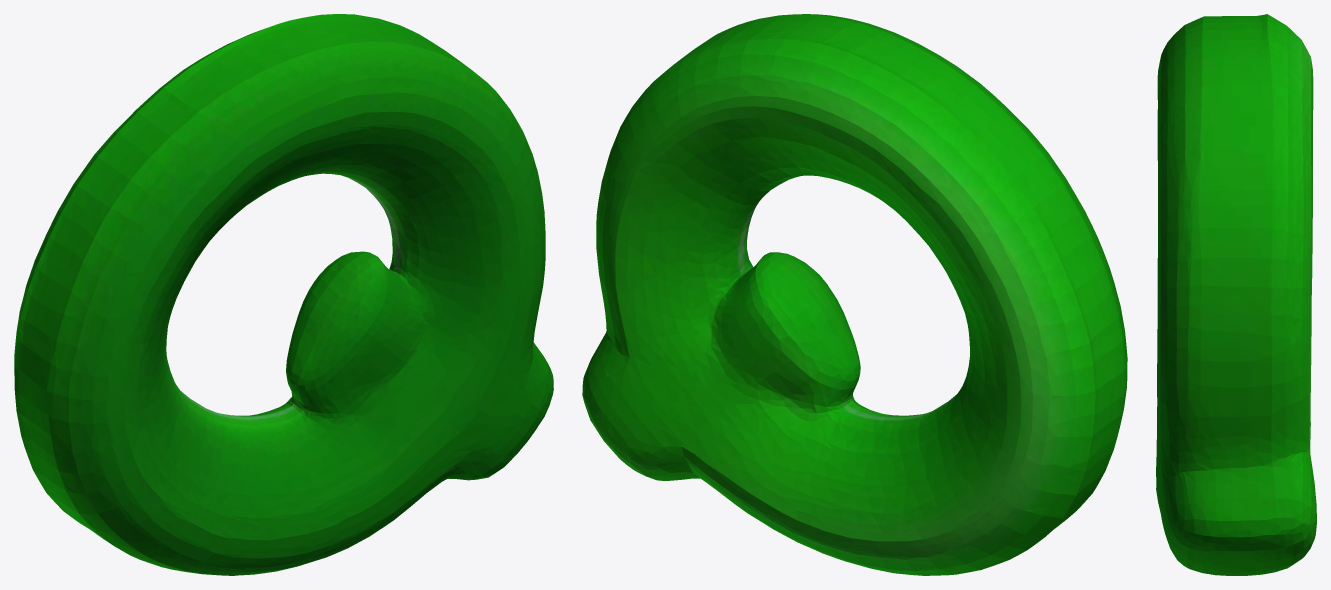
The picture shows the model from 3 angles, left to right: view 1: azimuth 30°, elevation 25°; view 2: azimuth 150°, elevation 25°; view 3: azimuth 270°, elevation 25°; orthographic projection. The views are drawn at different scales.
Parts seen in each view (by area): view 1: geometry_0; view 2: geometry_0; view 3: geometry_0.
Boxes of the visible parts, bbox=[...] form: geometry_0: bbox=[14, 14, 553, 575]; geometry_0: bbox=[582, 14, 1127, 575]; geometry_0: bbox=[1156, 14, 1316, 575].
Size of the model in its own units: 0.9761 by 0.9366 by 0.275.
1 material, 1 textured.
